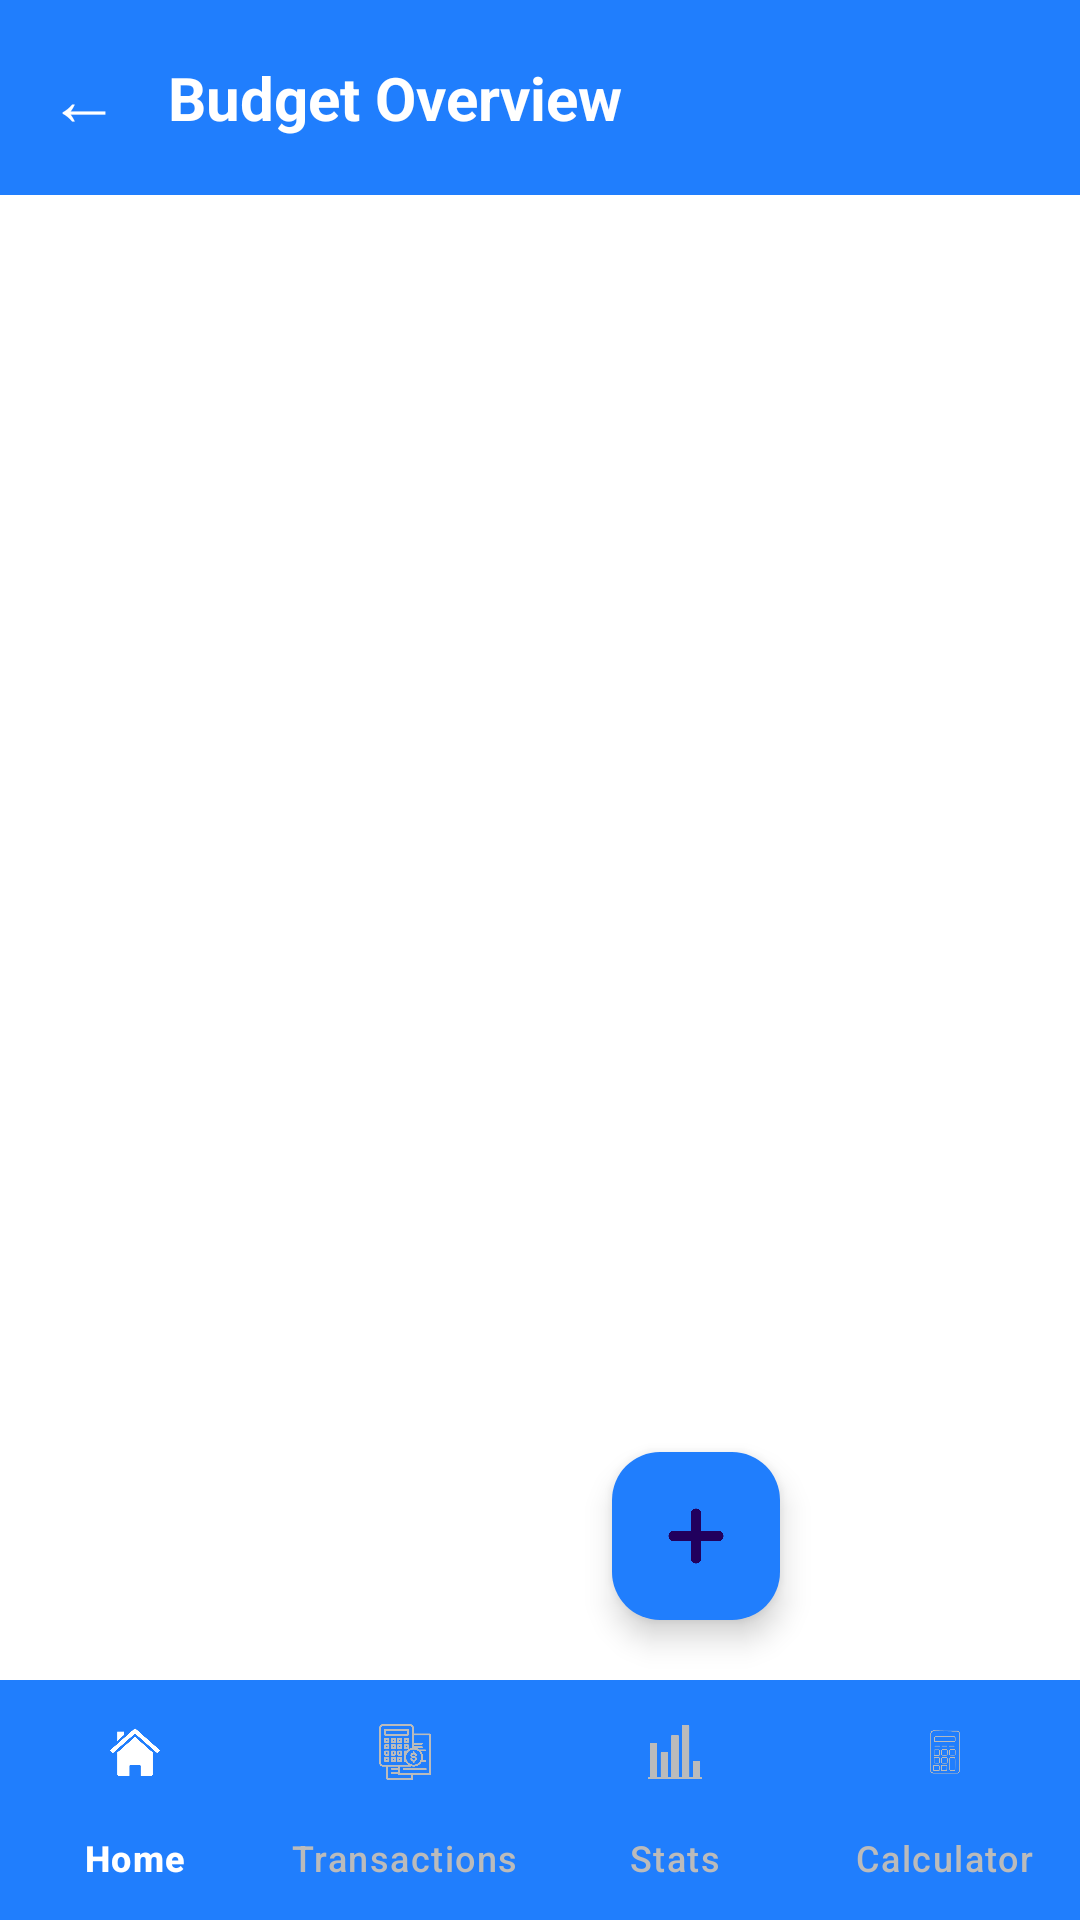

Where to tap for icons on this 1080 × 1920 app screen, as [x,y]:
Add: [696,1536]
